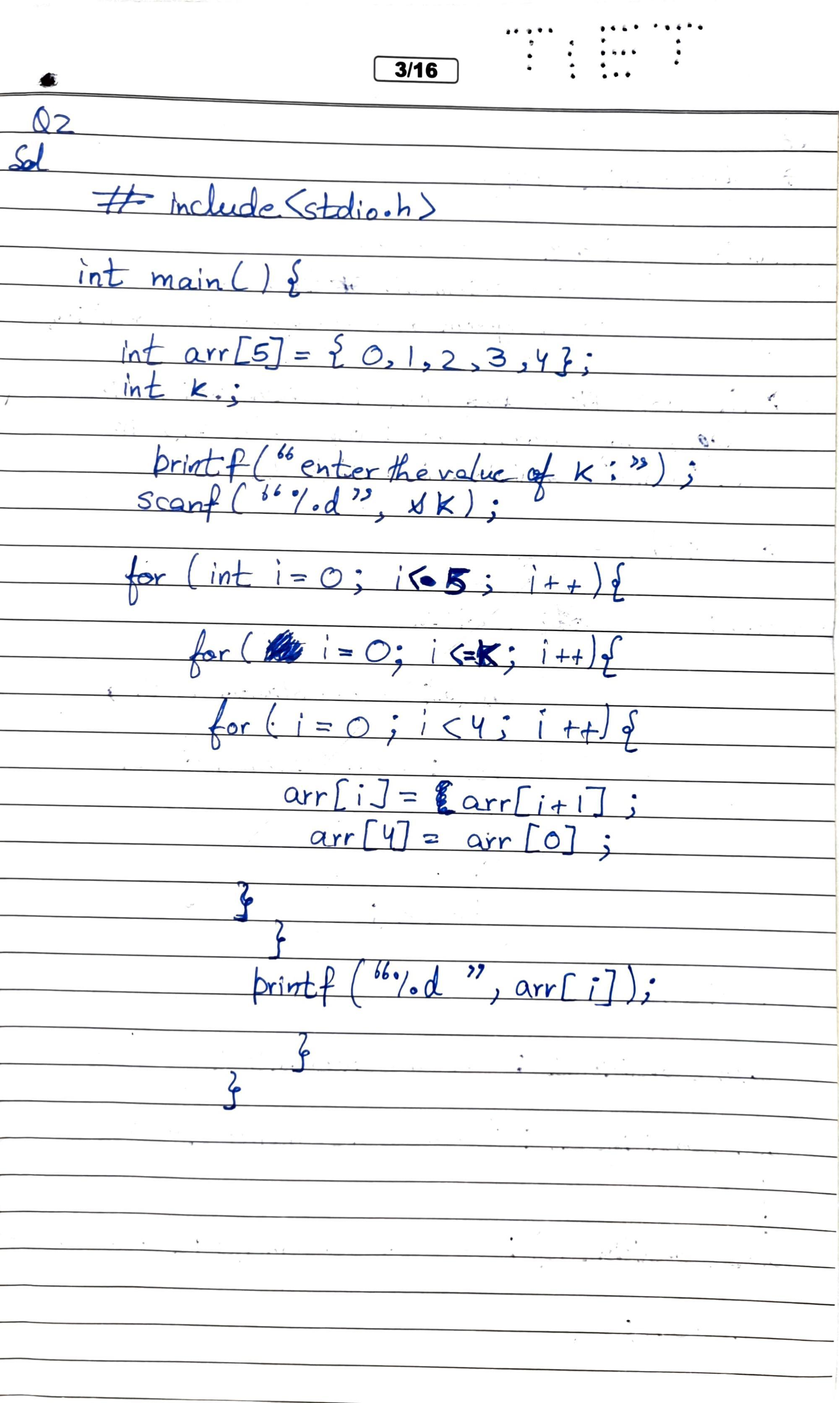cuttings: (258, 622, 309, 670), (429, 775, 461, 821), (417, 573, 439, 589)
